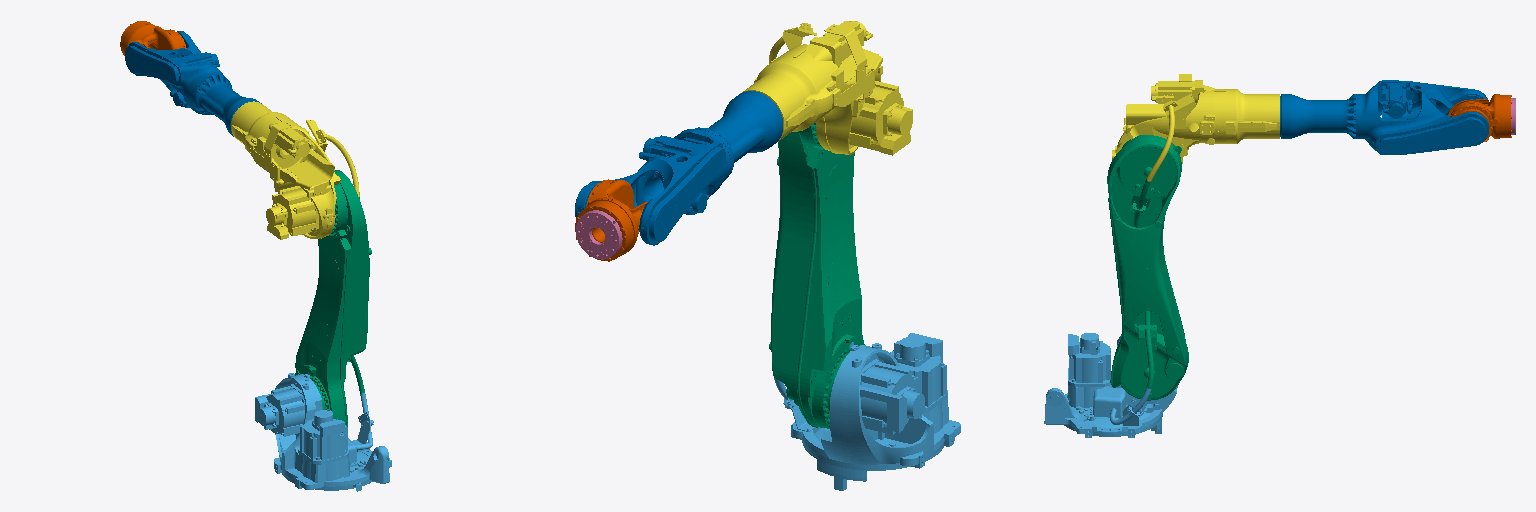
The robot description file, URDF, robot "BX130X":
<?xml version="1.0" ?>
<robot name="BX130X">

<link name="base_link">
  <inertial>
    <origin xyz="0.0005221420789596178 -0.09231064107727331 0.1013445533730931" rpy="0 0 0"/>
    <mass value="420.26519913608496"/>
    <inertia ixx="14.873216" iyy="8.314117" izz="19.825598" ixy="0.15024" iyz="-0.063758" ixz="-0.002923"/>
  </inertial>
  <visual>
    <origin xyz="0 0 0" rpy="0 0 0"/>
    <geometry>
      <mesh filename="meshes/base_link.stl" scale="0.001 0.001 0.001"/>
    </geometry>
  </visual>
  <collision>
    <origin xyz="0 0 0" rpy="0 0 0"/>
    <geometry>
      <mesh filename="meshes/base_link.stl" scale="0.001 0.001 0.001"/>
    </geometry>
  </collision>
</link>

<link name="link_1">
  <inertial>
    <origin xyz="-0.06567229606245659 0.03559301163051607 0.16812907247772388" rpy="0 0 0"/>
    <mass value="351.0601099386225"/>
    <inertia ixx="14.663269" iyy="9.926033" izz="13.900818" ixy="1.101316" iyz="-2.147873" ixz="1.93753"/>
  </inertial>
  <visual>
    <origin xyz="-0.0 0.0 -0.2255" rpy="0 0 0"/>
    <geometry>
      <mesh filename="meshes/link_1.stl" scale="0.001 0.001 0.001"/>
    </geometry>
  </visual>
  <collision>
    <origin xyz="-0.0 0.0 -0.2255" rpy="0 0 0"/>
    <geometry>
      <mesh filename="meshes/link_1.stl" scale="0.001 0.001 0.001"/>
    </geometry>
  </collision>
</link>

<link name="link_2">
  <inertial>
    <origin xyz="0.12275931792239199 -0.005060068490379321 0.5391925737923454" rpy="0 0 0"/>
    <mass value="289.53869329619147"/>
    <inertia ixx="79.838405" iyy="78.391416" izz="3.900612" ixy="0.044415" iyz="1.301909" ixz="-3.856227"/>
  </inertial>
  <visual>
    <origin xyz="0.022289 -0.2 -0.529681" rpy="0 0 0"/>
    <geometry>
      <mesh filename="meshes/link_2.stl" scale="0.001 0.001 0.001"/>
    </geometry>
  </visual>
  <collision>
    <origin xyz="0.022289 -0.2 -0.529681" rpy="0 0 0"/>
    <geometry>
      <mesh filename="meshes/link_2.stl" scale="0.001 0.001 0.001"/>
    </geometry>
  </collision>
</link>

<link name="link_3">
  <inertial>
    <origin xyz="-0.06333769466783858 0.2468900155966285 0.15053183942941506" rpy="0 0 0"/>
    <mass value="301.6514000716018"/>
    <inertia ixx="22.059636" iyy="7.542564" izz="18.532904" ixy="-1.56052" iyz="-6.113978" ixz="-0.901244"/>
  </inertial>
  <visual>
    <origin xyz="-0.04 -0.2 -1.69" rpy="0 0 0"/>
    <geometry>
      <mesh filename="meshes/link_3.stl" scale="0.001 0.001 0.001"/>
    </geometry>
  </visual>
  <collision>
    <origin xyz="-0.04 -0.2 -1.69" rpy="0 0 0"/>
    <geometry>
      <mesh filename="meshes/link_3.stl" scale="0.001 0.001 0.001"/>
    </geometry>
  </collision>
</link>

<link name="link_4">
  <inertial>
    <origin xyz="0.009493999209578646 0.5215079883323609 -0.0016985577446120281" rpy="0 0 0"/>
    <mass value="211.5746693519938"/>
    <inertia ixx="18.96146" iyy="2.937753" izz="20.005393" ixy="-0.464788" iyz="0.073081" ixz="0.459108"/>
  </inertial>
  <visual>
    <origin xyz="-0.0 -0.87 -1.92" rpy="0 0 0"/>
    <geometry>
      <mesh filename="meshes/link_4.stl" scale="0.001 0.001 0.001"/>
    </geometry>
  </visual>
  <collision>
    <origin xyz="-0.0 -0.87 -1.92" rpy="0 0 0"/>
    <geometry>
      <mesh filename="meshes/link_4.stl" scale="0.001 0.001 0.001"/>
    </geometry>
  </collision>
</link>

<link name="link_5">
  <inertial>
    <origin xyz="0.11811028949431827 0.07410627102474687 1.474989592464837e-05" rpy="0 0 0"/>
    <mass value="61.89137340233745"/>
    <inertia ixx="0.618956" iyy="0.43765" izz="0.6913" ixy="0.146674" iyz="-1.1e-05" ixz="-0.000343"/>
  </inertial>
  <visual>
    <origin xyz="0.0885 -1.85 -1.92" rpy="0 0 0"/>
    <geometry>
      <mesh filename="meshes/link_5.stl" scale="0.001 0.001 0.001"/>
    </geometry>
  </visual>
  <collision>
    <origin xyz="0.0885 -1.85 -1.92" rpy="0 0 0"/>
    <geometry>
      <mesh filename="meshes/link_5.stl" scale="0.001 0.001 0.001"/>
    </geometry>
  </collision>
</link>

<link name="link_6">
  <inertial>
    <origin xyz="0.0004602087308482282 0.018897127571363193 -0.00032763418838599456" rpy="0 0 0"/>
    <mass value="3.668547524551841"/>
    <inertia ixx="0.009658" iyy="0.019057" izz="0.009653" ixy="-0.0" iyz="-3e-06" ixz="-7.5e-05"/>
  </inertial>
  <visual>
    <origin xyz="-0.0 -2.046 -1.92" rpy="0 0 0"/>
    <geometry>
      <mesh filename="meshes/link_6.stl" scale="0.001 0.001 0.001"/>
    </geometry>
  </visual>
  <collision>
    <origin xyz="-0.0 -2.046 -1.92" rpy="0 0 0"/>
    <geometry>
      <mesh filename="meshes/link_6.stl" scale="0.001 0.001 0.001"/>
    </geometry>
  </collision>
</link>

<joint name="joint_1" type="revolute">
  <origin xyz="0.0 0.0 0.2255" rpy="0 0 0"/>
  <parent link="base_link"/>
  <child link="link_1"/>
  <axis xyz="0.0 0.0 1.0"/>
  <limit lower="-2.7925" upper="2.7925" effort="830.0" velocity="1.833"/>
</joint>

<joint name="joint_2" type="revolute">
  <origin xyz="-0.022289 0.2 0.304181" rpy="0 0 0"/>
  <parent link="link_1"/>
  <child link="link_2"/>
  <axis xyz="0.999391 0.0 0.034899"/>
  <limit lower="-1.309" upper="1.047" effort="830.0" velocity="1.571"/>
</joint>

<joint name="joint_3" type="revolute">
  <origin xyz="0.062289 0.0 1.160319" rpy="0 0 0"/>
  <parent link="link_2"/>
  <child link="link_3"/>
  <axis xyz="1.0 0.0 0.0"/>
  <limit lower="-1.571" upper="1.309" effort="830.0" velocity="2.269"/>
</joint>

<joint name="joint_4" type="revolute">
  <origin xyz="-0.04 0.67 0.23" rpy="0 0 0"/>
  <parent link="link_3"/>
  <child link="link_4"/>
  <axis xyz="0.0 1.0 0.0"/>
  <limit lower="-3.665" upper="3.665" effort="830.0" velocity="3.491"/>
</joint>

<joint name="joint_5" type="revolute">
  <origin xyz="-0.0885 0.98 0.0" rpy="0 0 0"/>
  <parent link="link_4"/>
  <child link="link_5"/>
  <axis xyz="1.0 0.0 0.0"/>
  <limit lower="-2.182" upper="2.182" effort="441.0" velocity="2.793"/>
</joint>

<joint name="joint_6" type="revolute">
  <origin xyz="0.0885 0.196 0.0" rpy="0 0 0"/>
  <parent link="link_5"/>
  <child link="link_6"/>
  <axis xyz="0.0 -1.0 0.0"/>
  <limit lower="-3.665" upper="3.665" effort="441.0" velocity="5.236"/>
</joint>

<link name="flange">
  <inertial>
    <origin xyz="0 0 0" rpy="0 0 0"/>
    <mass value="0.1"/>
    <inertia ixx="0.0001" iyy="0.0001" izz="0.0001" ixy="0" iyz="0" ixz="0"/>
  </inertial>
</link>

<link name="tool0">
  <inertial>
    <origin xyz="0 0 0" rpy="0 0 0"/>
    <mass value="0.01"/>
    <inertia ixx="0.00001" iyy="0.00001" izz="0.00001" ixy="0" iyz="0" ixz="0"/>
  </inertial>
</link>

<joint name="joint_flange" type="fixed">
  <origin xyz="0 0 0" rpy="0 1.57 0"/>
  <parent link="link_6"/>
  <child link="flange"/>
</joint>

<joint name="joint_tool0" type="fixed">
  <origin xyz="0 0 0" rpy="0 0 0"/>
  <parent link="flange"/>
  <child link="tool0"/>
</joint>

</robot>

--- What the picture shows (computed from the rendered views, not written in the file) ---
The picture shows the robot from 3 angles, left to right: view 1: azimuth 30°, elevation 25°; view 2: azimuth 150°, elevation 25°; view 3: azimuth 270°, elevation 25°; orthographic projection.
Robot: BX130X — 9 links, 8 joints (6 revolute, 2 fixed); root link base_link; default pose: every joint at zero.
Visible links, largest first — view 1: link_2, link_1, link_3, link_4, link_5; view 2: link_2, link_1, link_3, link_4, link_5, link_6; view 3: link_2, link_4, link_3, link_1, link_5.
Boxes of the visible links, box(x1,y1,x2,y2) form: link_2: box(295, 170, 371, 426); link_1: box(255, 372, 391, 491); link_3: box(231, 101, 359, 239); link_4: box(125, 31, 261, 136); link_5: box(120, 21, 186, 55); link_2: box(769, 123, 864, 428); link_1: box(774, 333, 960, 490); link_3: box(740, 21, 912, 155); link_4: box(575, 91, 782, 245); link_5: box(575, 179, 647, 261); link_6: box(576, 210, 622, 259); link_2: box(1107, 135, 1188, 400); link_4: box(1280, 80, 1488, 154); link_3: box(1112, 74, 1279, 181); link_1: box(1044, 333, 1177, 437); link_5: box(1448, 94, 1511, 141).
Size in the robot's own frame: 0.6319 by 2.41 by 1.97 metres.
6 mesh visuals loaded from 7 distinct referenced files (6 binary STL); not drawn: 1 (reference not matched to a file when rendering).
